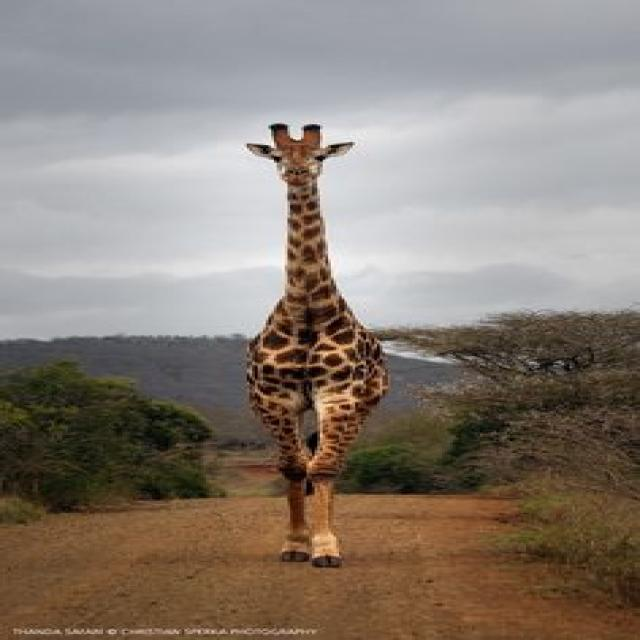Herbivorous: (244, 124, 391, 570)
